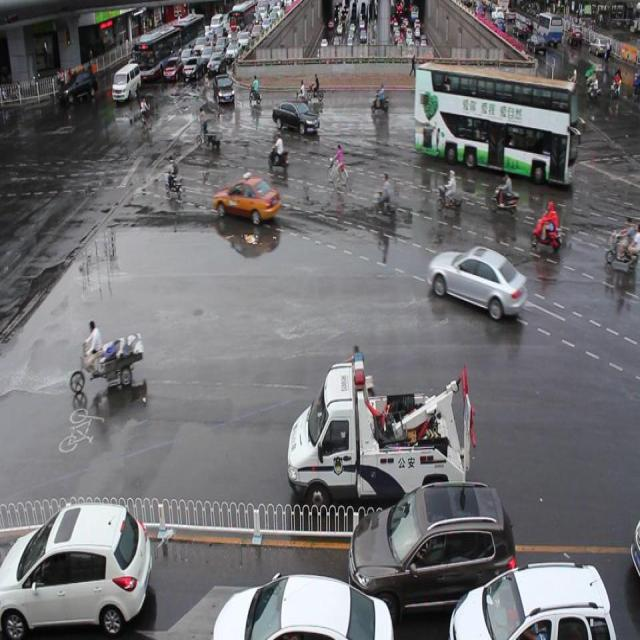bus: (287, 352, 473, 518)
car: (349, 478, 517, 618), (1, 503, 152, 631), (448, 562, 615, 640), (213, 571, 391, 640), (428, 246, 526, 318), (213, 174, 280, 228), (272, 100, 319, 138), (213, 74, 236, 106)
van: (413, 57, 579, 188)
